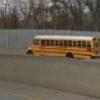buses: (24, 34, 100, 60)
